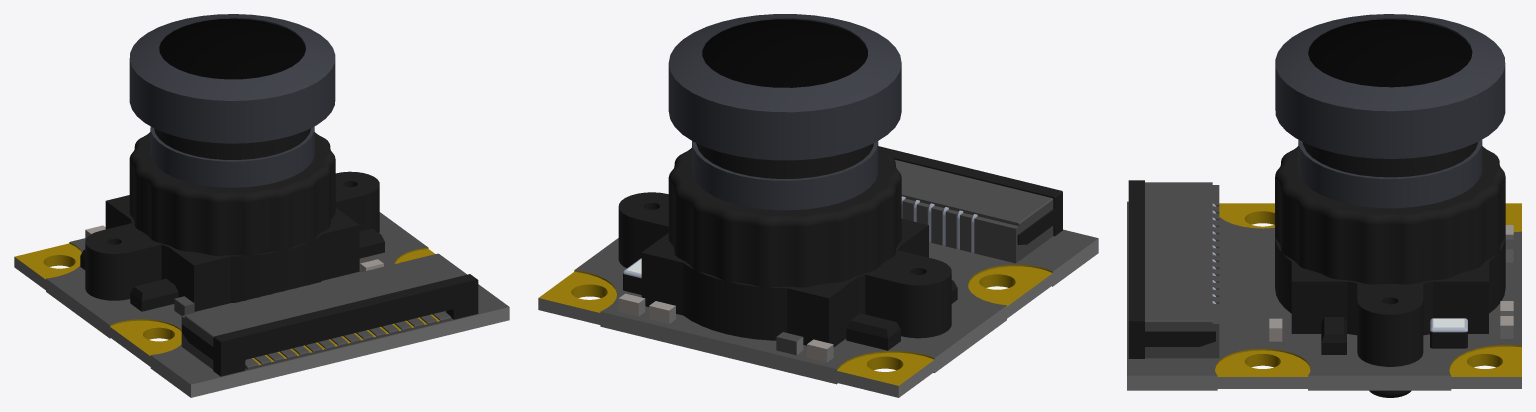
File: fpv_camera.fbx
The picture shows the model from 3 angles, left to right: view 1: azimuth 30°, elevation 25°; view 2: azimuth 150°, elevation 25°; view 3: azimuth 270°, elevation 25°; orthographic projection. The views are drawn at different scales.
Parts seen in each view (by area): view 1: rpiCameraM, rpiCameraM_lens; view 2: rpiCameraM, rpiCameraM_lens; view 3: rpiCameraM, rpiCameraM_lens.
Boxes of the visible parts, left/top/right/bottom form: rpiCameraM: left=14, top=132, right=509, bottom=397; rpiCameraM_lens: left=129, top=14, right=335, bottom=187; rpiCameraM: left=538, top=146, right=1098, bottom=397; rpiCameraM_lens: left=668, top=14, right=901, bottom=210; rpiCameraM: left=1127, top=146, right=1521, bottom=397; rpiCameraM_lens: left=1275, top=14, right=1505, bottom=208.
Size of the model in its own units: 2500 by 1915 by 2400.
